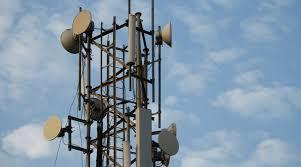Microwave Antenna: (79, 94, 106, 123), (70, 7, 96, 36), (39, 112, 64, 141), (157, 129, 181, 157), (61, 26, 82, 55), (160, 20, 175, 49)
antenna: (136, 105, 153, 167), (125, 14, 140, 67), (120, 141, 134, 167)
